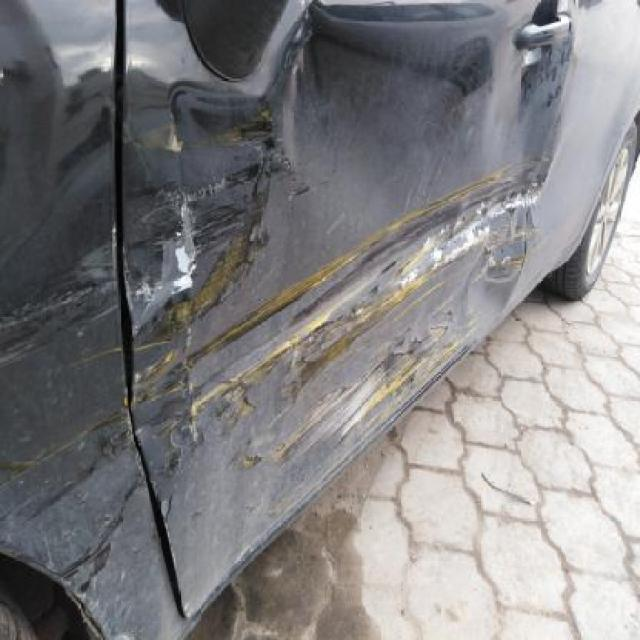car damage: (130, 33, 567, 637), (248, 2, 516, 176), (128, 167, 296, 329), (146, 67, 284, 174), (190, 265, 320, 370), (50, 476, 149, 604), (30, 57, 122, 192), (20, 453, 106, 524)
